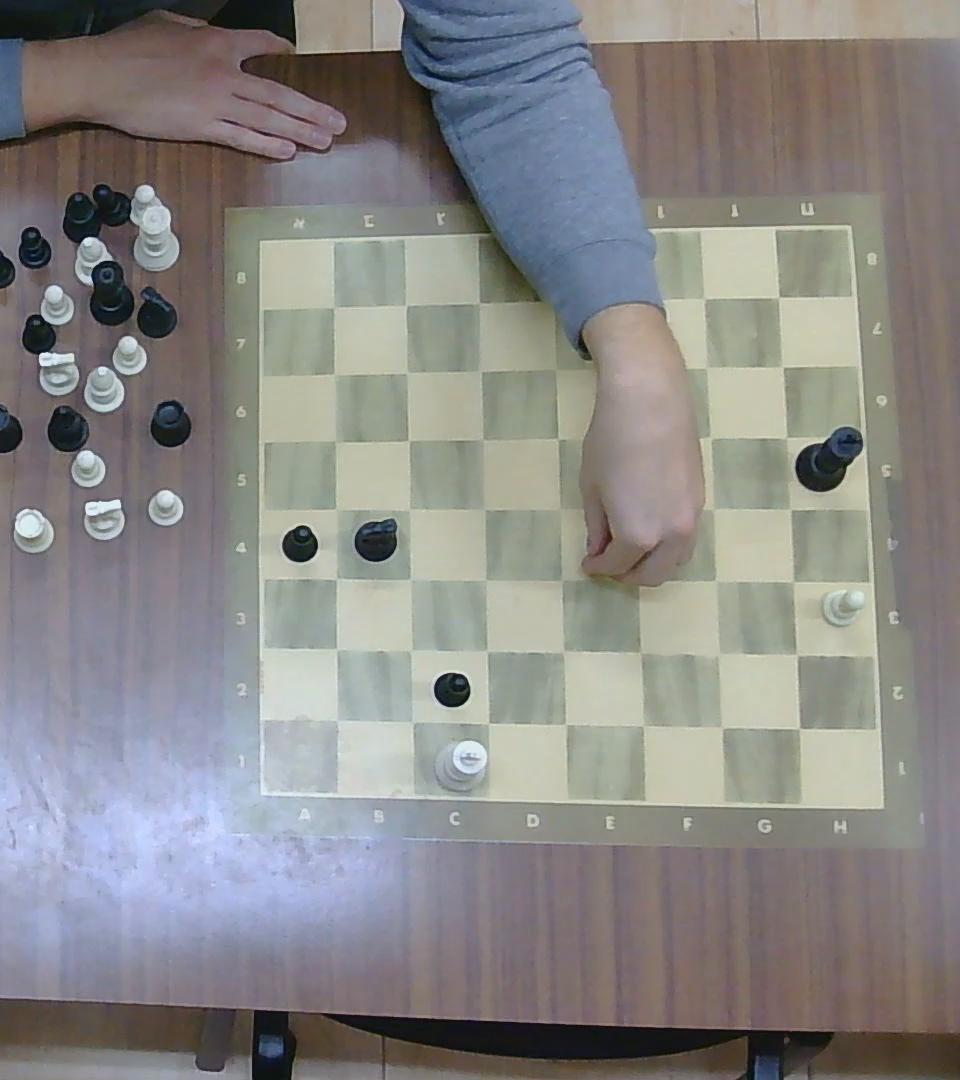xcorner: (626, 707, 658, 740), (702, 638, 734, 670), (705, 710, 736, 743), (548, 706, 579, 738), (471, 706, 502, 738), (622, 563, 653, 594), (625, 635, 655, 667), (783, 711, 813, 743), (321, 703, 351, 734), (396, 705, 427, 735), (781, 639, 812, 669), (547, 563, 577, 594), (608, 283, 638, 314), (548, 636, 578, 666), (471, 636, 501, 666), (320, 563, 350, 593), (621, 423, 651, 453), (619, 351, 649, 381), (465, 286, 494, 317), (470, 564, 500, 593), (470, 493, 499, 522), (395, 635, 424, 664), (776, 493, 805, 522), (392, 289, 421, 318), (623, 493, 652, 522), (777, 566, 806, 594), (321, 635, 350, 663), (701, 566, 730, 594), (699, 493, 727, 522), (543, 353, 571, 382), (320, 291, 349, 319), (538, 286, 566, 314), (393, 357, 421, 385), (693, 352, 721, 380), (321, 426, 350, 453), (692, 284, 719, 312), (467, 356, 495, 383), (395, 494, 423, 521), (395, 565, 423, 592), (469, 425, 497, 452), (769, 352, 797, 379), (546, 494, 573, 521), (772, 422, 800, 448), (321, 361, 349, 387), (546, 423, 572, 450), (395, 425, 421, 452), (766, 283, 792, 310), (324, 496, 350, 522), (697, 424, 723, 449)
